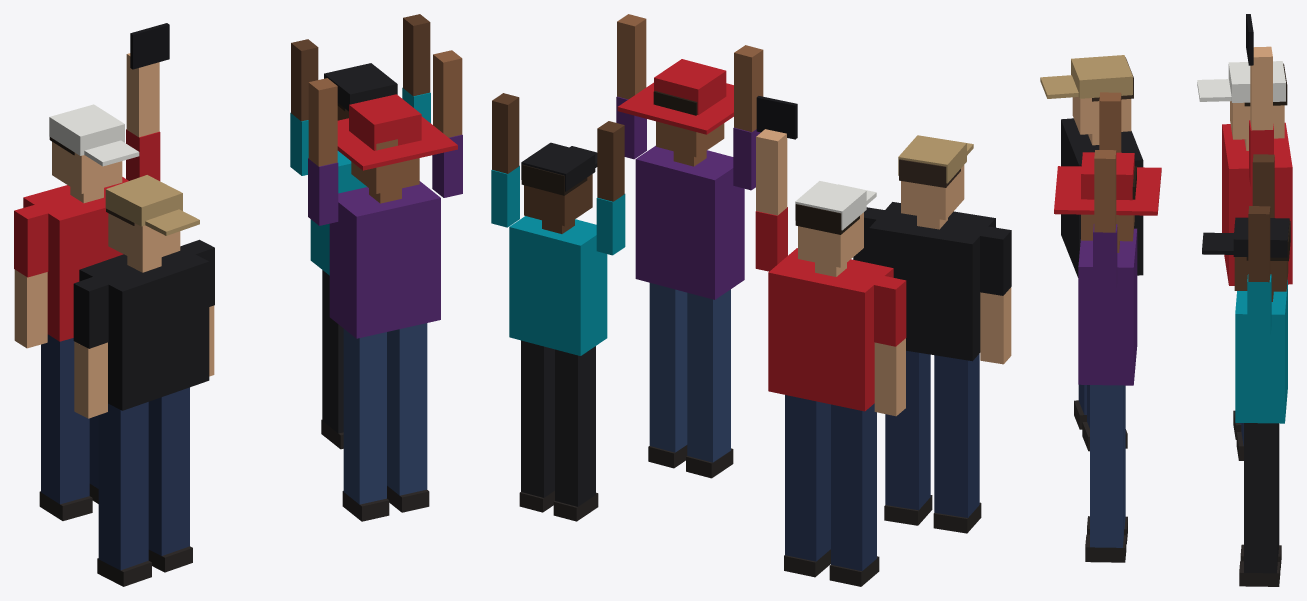
File: crowd_d.dae
3 views of the same model, side by side, from view 1: azimuth 30°, elevation 25°; view 2: azimuth 150°, elevation 25°; view 3: azimuth 270°, elevation 25° (orthographic). The views are drawn at different scales.
Parts seen in each view (by area): view 1: marker; view 2: marker; view 3: marker.
Part boxes in pixels (x1,y1,x2,y2): marker: (14, 14, 462, 586); marker: (491, 14, 1011, 586); marker: (1040, 14, 1292, 586).
Size of the model in its own units: 2.05 by 1.07 by 2.09.
